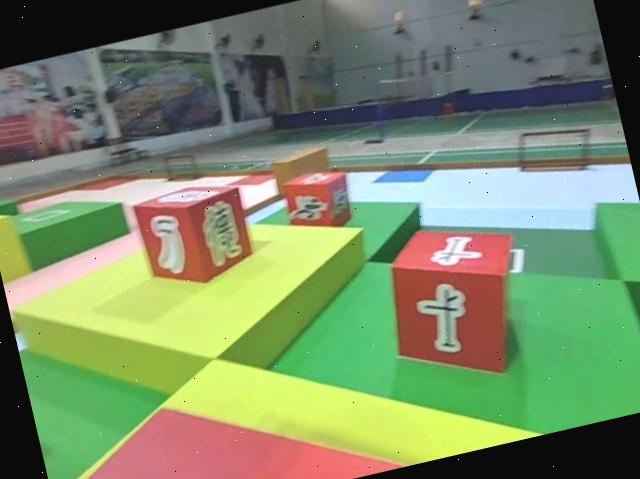R1: (276, 159, 358, 237)
R2 Fake: (126, 171, 259, 297)
R2 Real: (371, 204, 543, 393)
